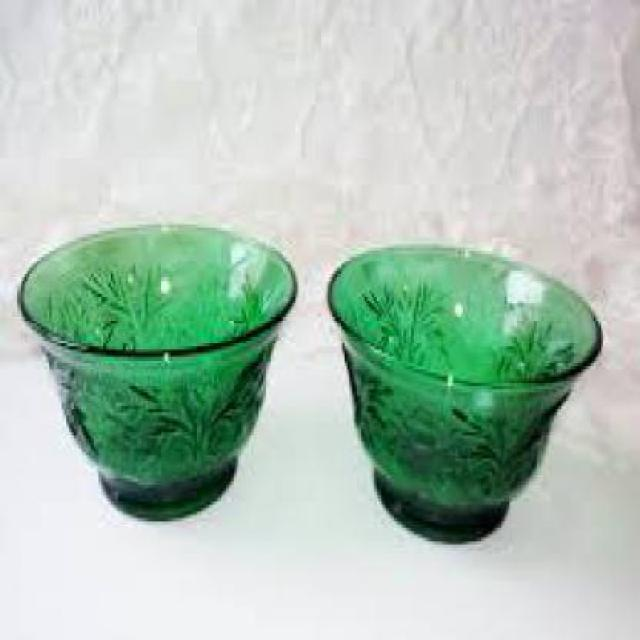kaca: (17, 222, 295, 518), (326, 244, 602, 542)
